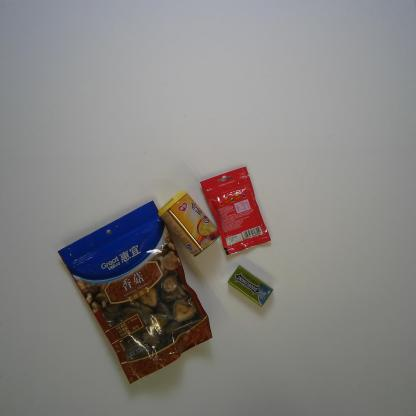Candy: (200, 166, 272, 256)
Canned Food: (157, 189, 222, 257)
Dried Food: (57, 199, 214, 384)
Gum: (227, 264, 274, 308)
